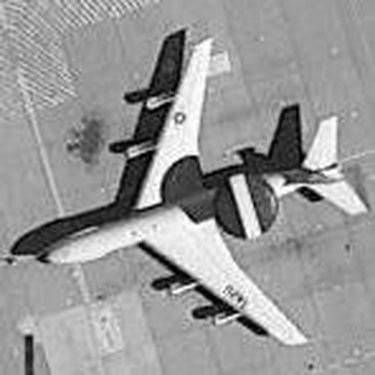airplane: (17, 21, 372, 352)
